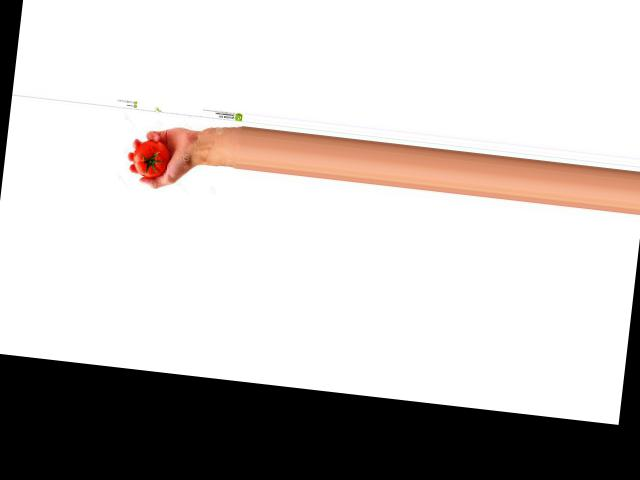tomato: (131, 137, 171, 178)
